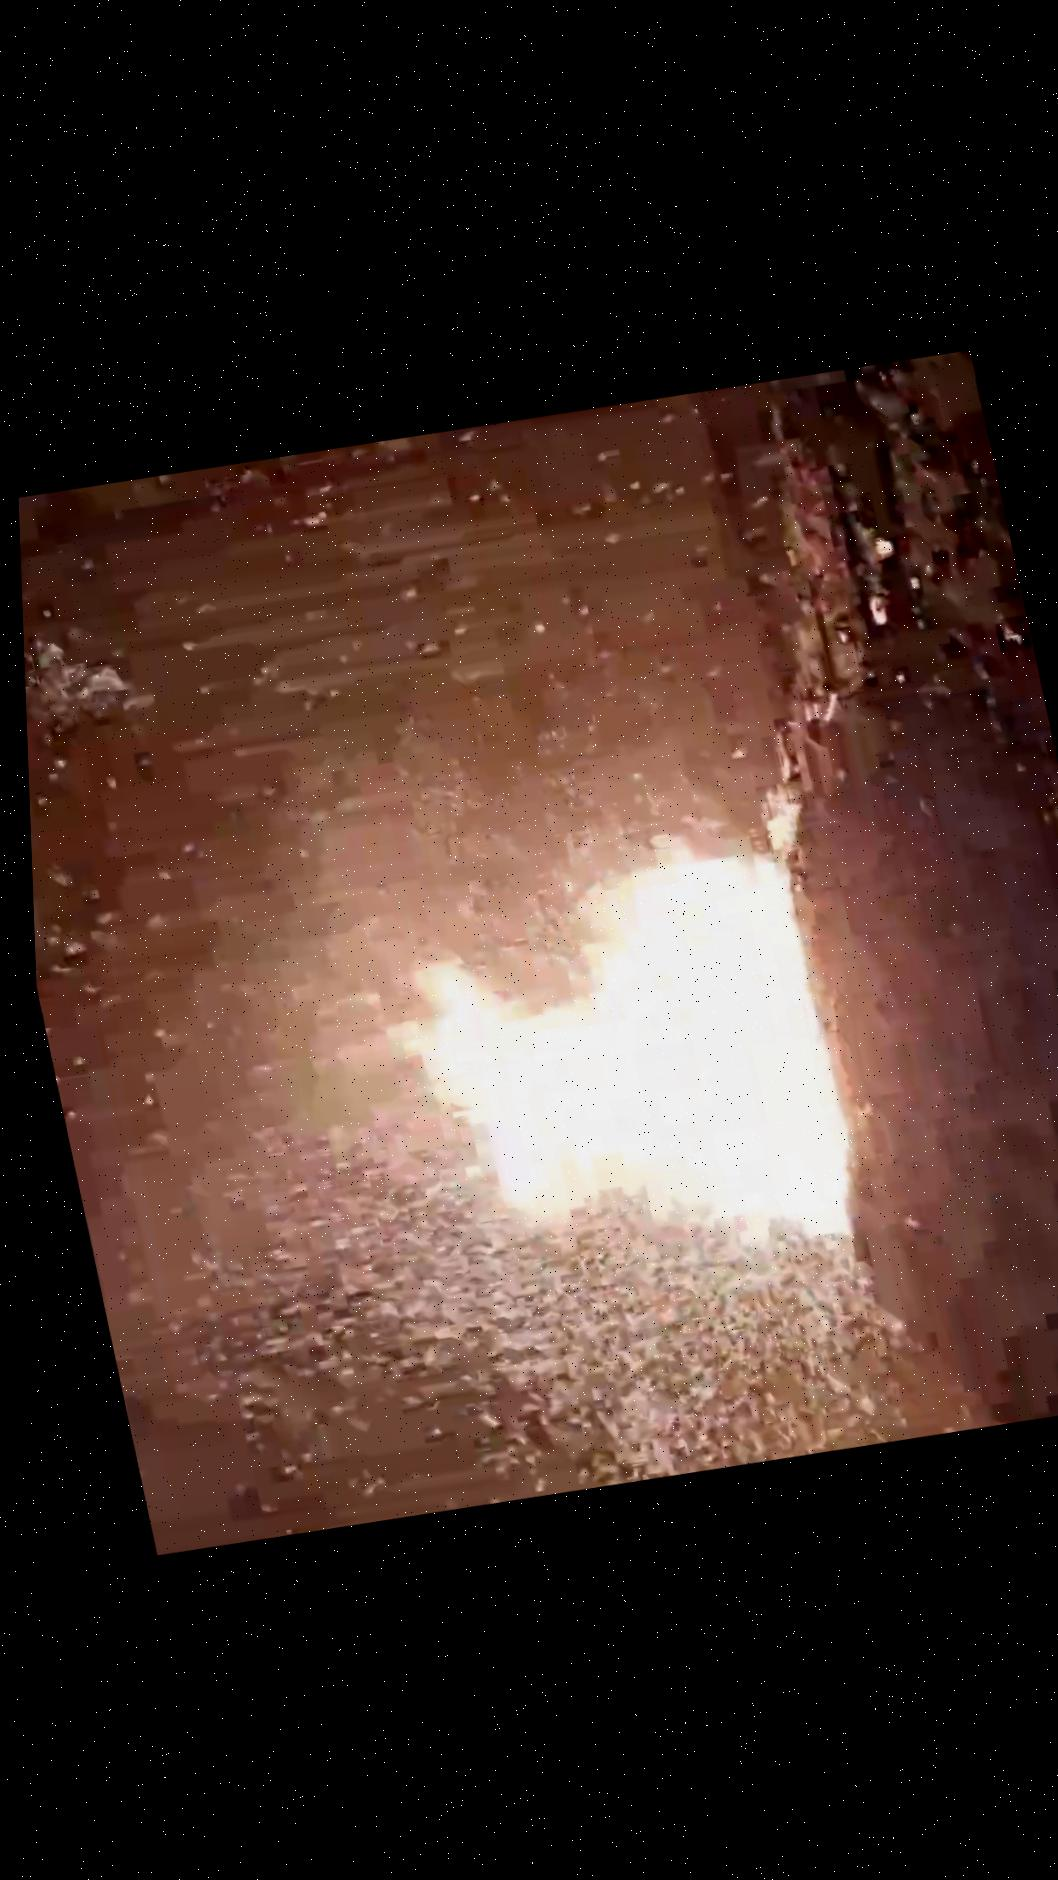fire: (92, 376, 1010, 1511)
